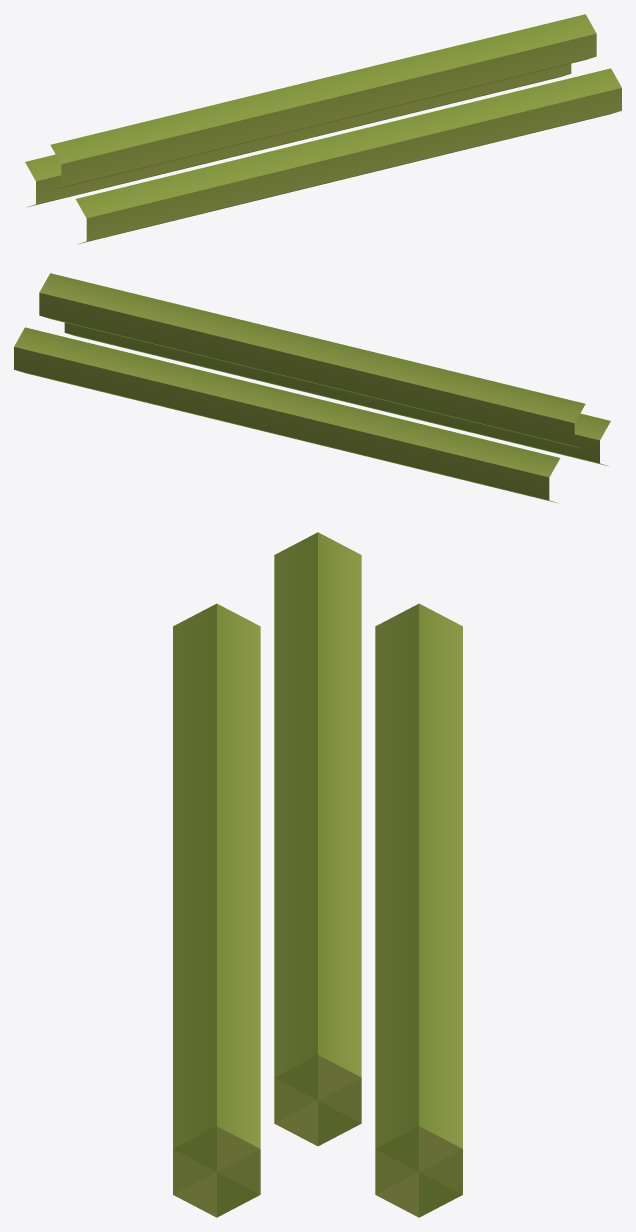
The model's file is bamboo_poles.glb.
3 views of the same model, one above another, from view 1: azimuth 30°, elevation 25°; view 2: azimuth 150°, elevation 25°; view 3: azimuth 270°, elevation 25° (orthographic). The views are drawn at different scales.
Parts seen in each view (by area): view 1: bamboo_poles_solid; view 2: bamboo_poles_solid; view 3: bamboo_poles_solid.
Boxes of the visible parts, x1,y1,x2,y2 form: bamboo_poles_solid: (25,14,621,243); bamboo_poles_solid: (14,273,610,502); bamboo_poles_solid: (173,532,462,1217).
Size of the model in its own units: 1.1 by 0.1599 by 0.258.
